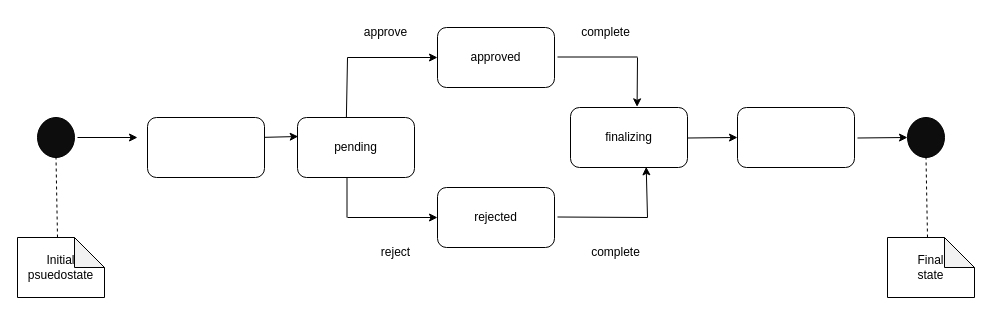
This 992x315 diagram has some shape labels left out. Here are the shapes that lost their labels. From the top down, the centre of each, then its label:
point 205,147: Connecting Device to EcoPower
point 795,137: Send message to User about Status
